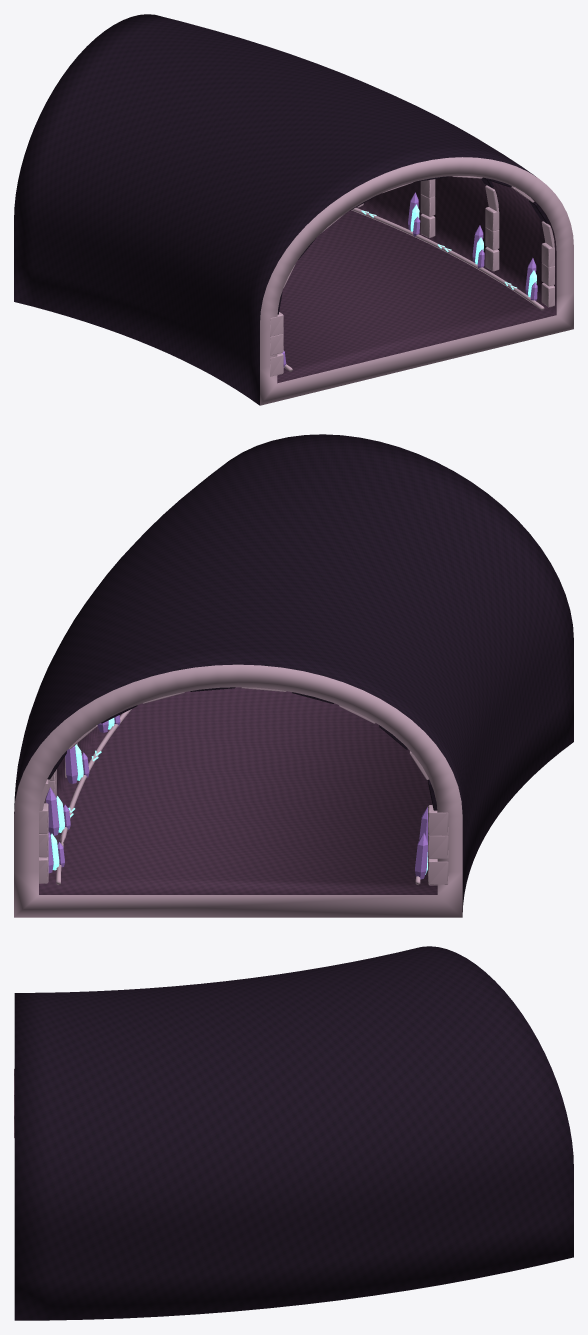
Rendered from curve_left_30_lod1.glb.
The picture shows the model from 3 angles, top to bottom: view 1: azimuth 30°, elevation 25°; view 2: azimuth 150°, elevation 25°; view 3: azimuth 270°, elevation 25°; orthographic projection. The views are drawn at different scales.
Visible parts, largest first — view 1: TunnelGeometry.001; view 2: TunnelGeometry.001; view 3: TunnelGeometry.001.
Part boxes in pixels (bbox=[...]): TunnelGeometry.001: bbox=[14, 14, 573, 405]; TunnelGeometry.001: bbox=[14, 434, 573, 917]; TunnelGeometry.001: bbox=[14, 946, 573, 1320].
Size of the model in its own units: 19.1 by 9.52 by 21.85.
5 materials, 2 textured.
